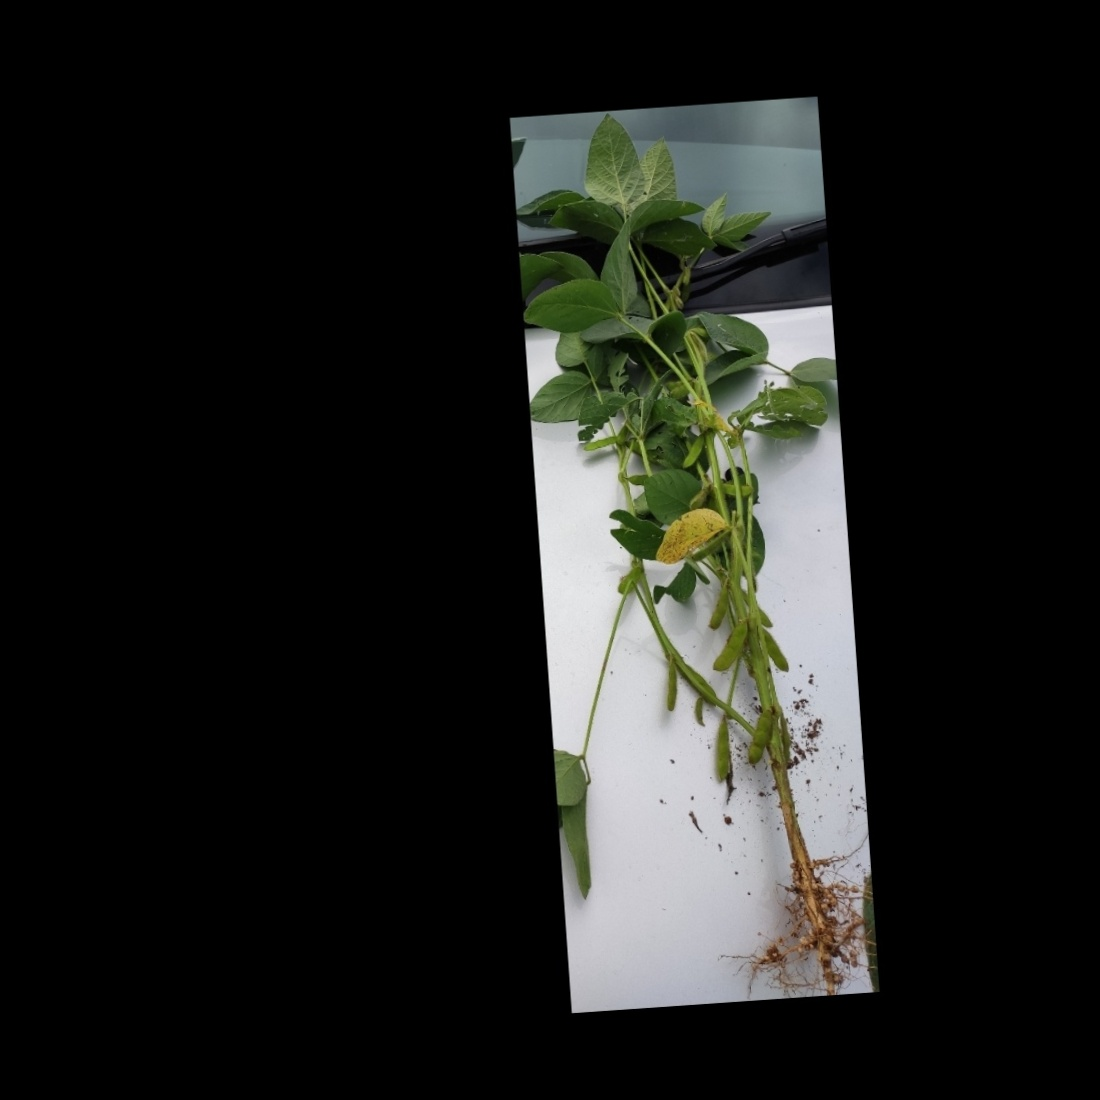pod: (705, 616, 753, 674), (707, 705, 736, 787), (741, 710, 776, 766), (763, 620, 794, 674), (659, 657, 686, 716), (704, 580, 734, 633), (678, 428, 710, 469), (575, 435, 622, 454), (689, 695, 708, 731)
soy: (538, 107, 867, 972)
